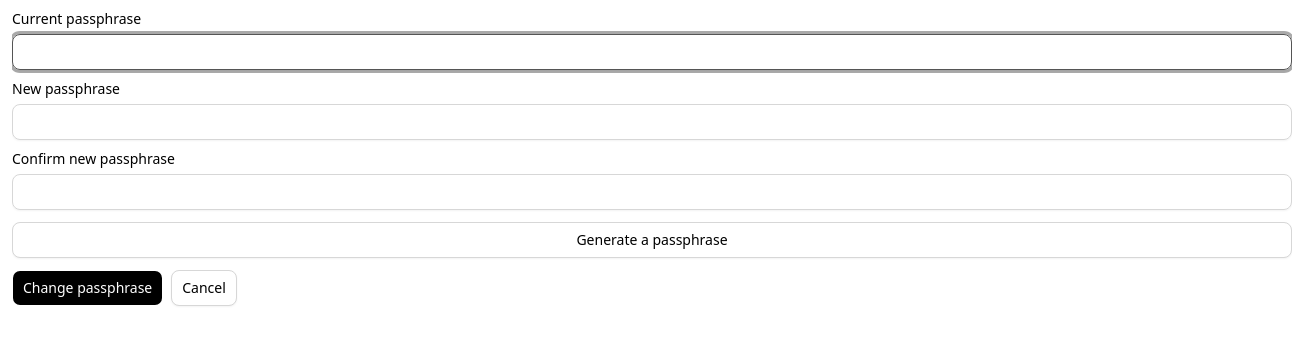
Test case: ChangePassphraseForm › sends the current and new passphrase and says it worked
The width and height of the screenshot is (1304, 355).
Type "old passphrase" into the password field labelled "Current passphrase" at (652, 52), box [12,34,1292,70]
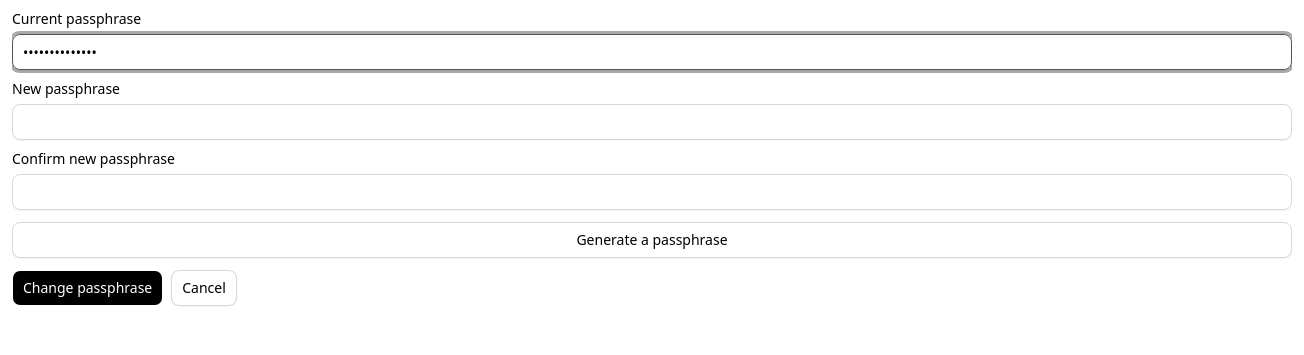
Type "a brand new passphrase" into the password field labelled "New passphrase" at (652, 122), box [12,104,1292,140]
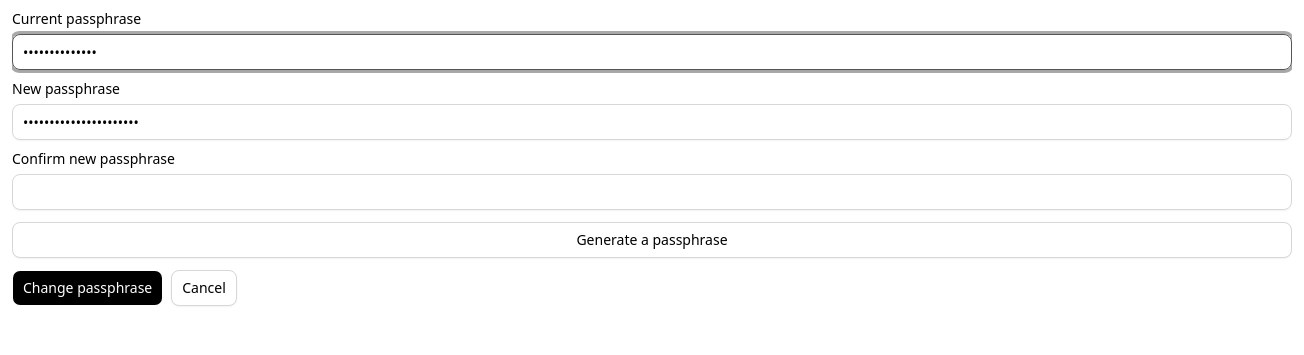
Type "a brand new passphrase" into the password field labelled "Confirm new passphrase" at (652, 192), box [12,174,1292,210]
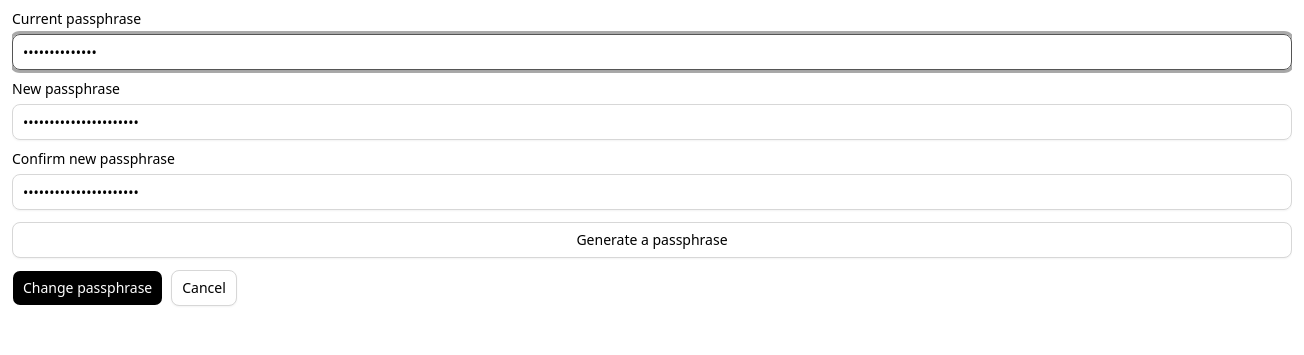
Click the button "Change passphrase" at (88, 288), box [12,270,163,306]
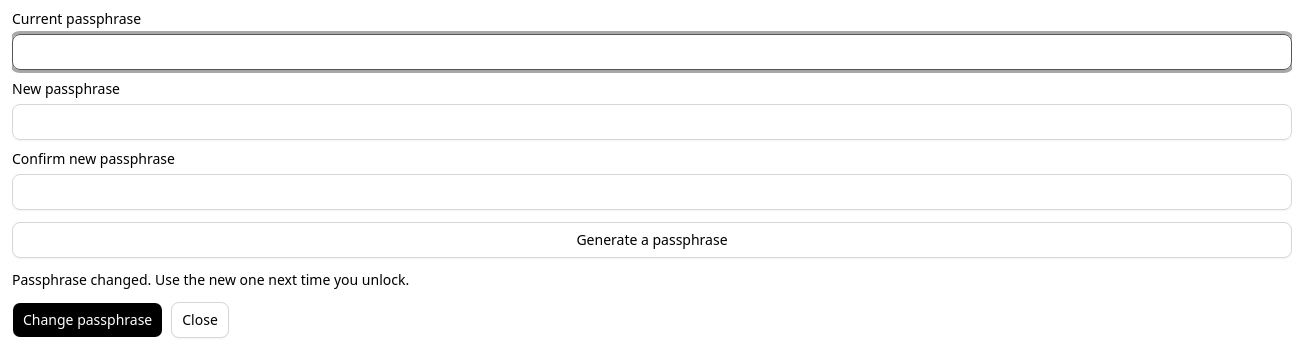
Expected: the text "Passphrase changed. Use the new one next time you unlock." is shown, [12,270,409,289]
Expected: the password field labelled "New passphrase" is empty, [12,104,1292,140]
